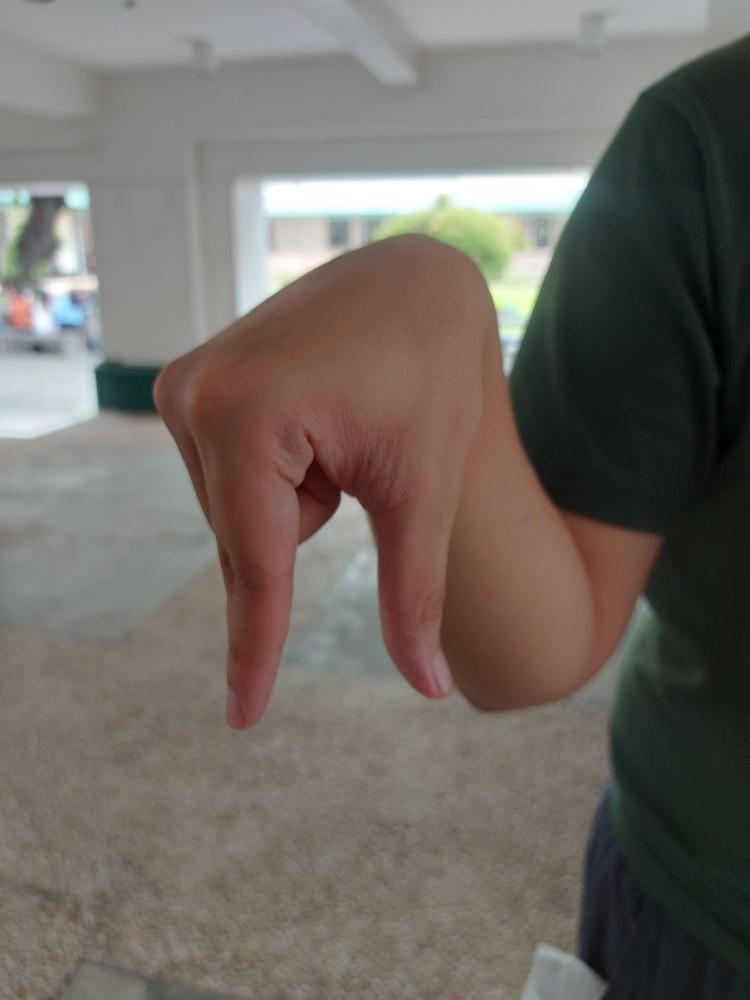q: (150, 230, 490, 730)
